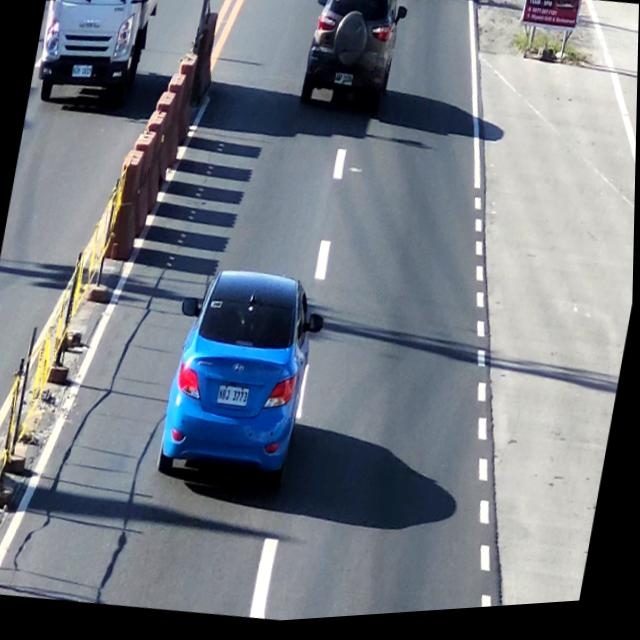Car: (156, 263, 326, 498), (294, 0, 409, 123)
License-Plate: (217, 385, 253, 417), (69, 63, 93, 85), (332, 73, 354, 95)
